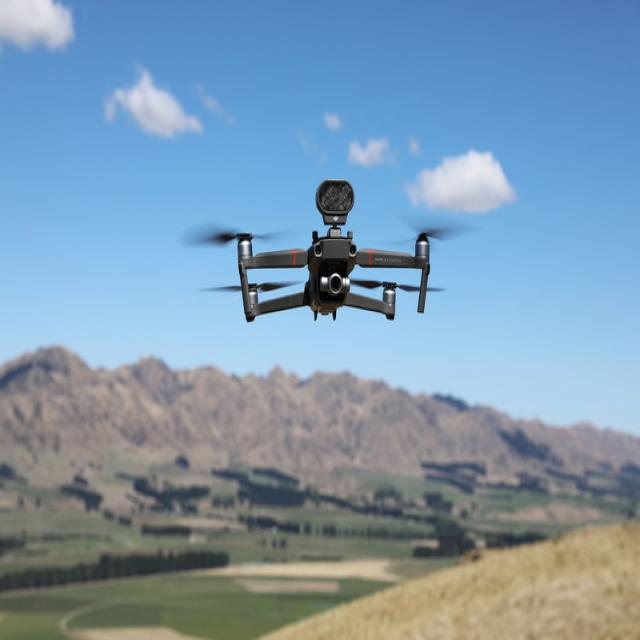drone: (196, 204, 469, 342)
